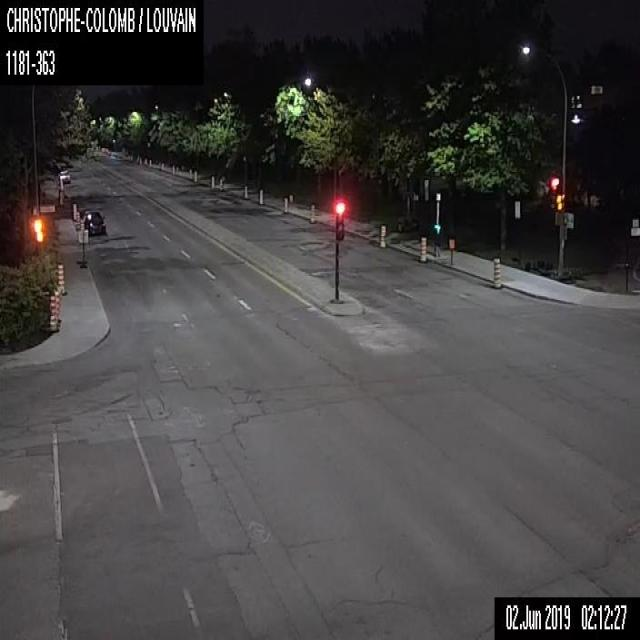construction: (78, 228, 88, 267), (49, 295, 58, 332), (58, 262, 66, 294), (493, 257, 500, 287), (418, 236, 426, 261), (54, 290, 59, 326), (378, 225, 386, 247), (448, 237, 454, 264), (56, 289, 61, 321), (309, 204, 315, 223), (283, 196, 288, 212), (258, 188, 263, 203), (72, 202, 76, 220), (76, 210, 80, 228), (244, 185, 248, 199), (210, 175, 214, 189), (218, 177, 222, 190), (80, 220, 84, 229), (188, 167, 191, 178), (161, 161, 164, 171), (171, 164, 174, 174), (157, 160, 160, 169), (148, 158, 151, 166), (194, 170, 196, 181), (139, 156, 141, 164), (136, 154, 138, 162), (144, 156, 146, 164)
vehicle: (83, 209, 105, 235), (58, 169, 70, 183)
